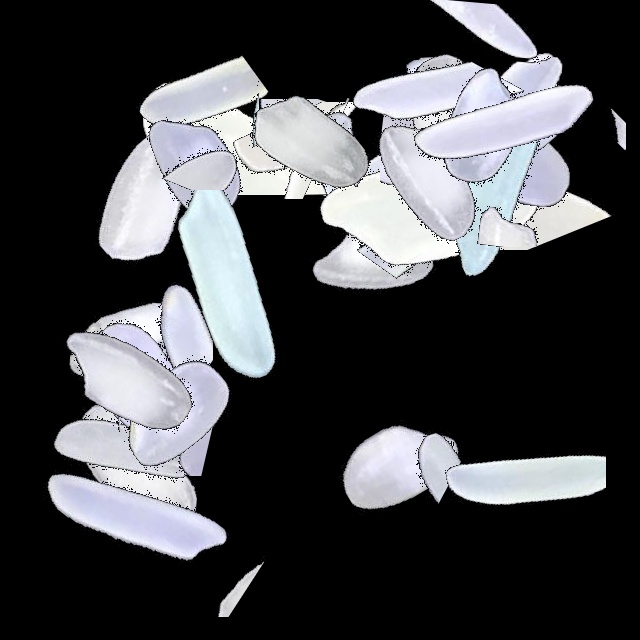Broken: (231, 135, 481, 309), (107, 25, 357, 195), (386, 52, 554, 302), (56, 30, 306, 195), (444, 307, 606, 557), (387, 96, 637, 250), (307, 51, 557, 202), (357, 38, 503, 288), (297, 142, 547, 280), (380, 23, 510, 273), (355, 130, 476, 380), (330, 0, 580, 120), (77, 74, 327, 190), (186, 119, 436, 233), (183, 99, 433, 212), (102, 217, 213, 467), (390, 139, 640, 247), (34, 370, 284, 476), (275, 411, 525, 516), (208, 102, 458, 207), (75, 514, 325, 617), (145, 98, 395, 199), (308, 0, 408, 250), (25, 270, 120, 520), (548, 15, 626, 265), (181, 0, 259, 250)
Full: (272, 340, 522, 590), (14, 335, 264, 585), (0, 327, 250, 577), (350, 4, 600, 254), (11, 215, 261, 465), (23, 76, 273, 326), (73, 39, 323, 289), (11, 253, 261, 503), (351, 3, 601, 253), (308, 83, 558, 333), (390, 41, 640, 291), (326, 0, 576, 250), (101, 153, 351, 403), (390, 0, 640, 250), (357, 0, 607, 250), (50, 289, 300, 539), (377, 54, 627, 304), (9, 390, 259, 640), (366, 0, 616, 250), (304, 53, 554, 303), (358, 0, 608, 250), (0, 254, 250, 504), (184, 21, 434, 271), (381, 0, 631, 250)
